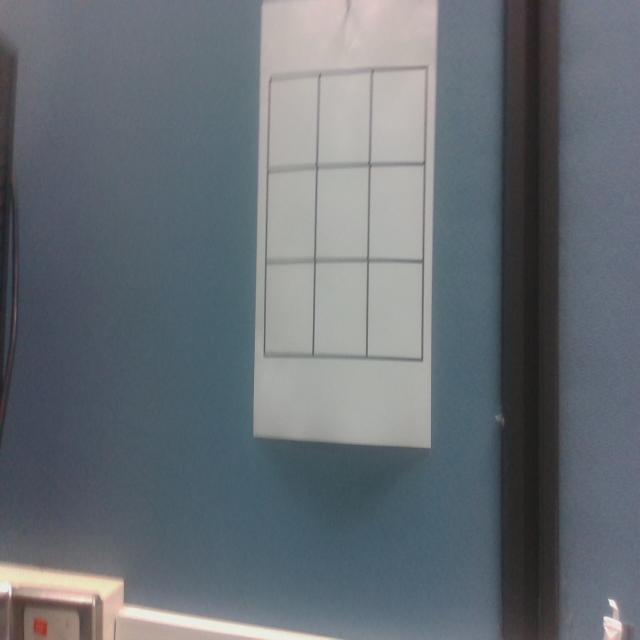null: (368, 165, 425, 264), (368, 263, 424, 362), (314, 262, 369, 360), (371, 69, 427, 163), (315, 165, 369, 261), (318, 73, 371, 166), (266, 168, 316, 264), (264, 263, 313, 358), (269, 76, 318, 170)
table: (261, 62, 428, 365)
